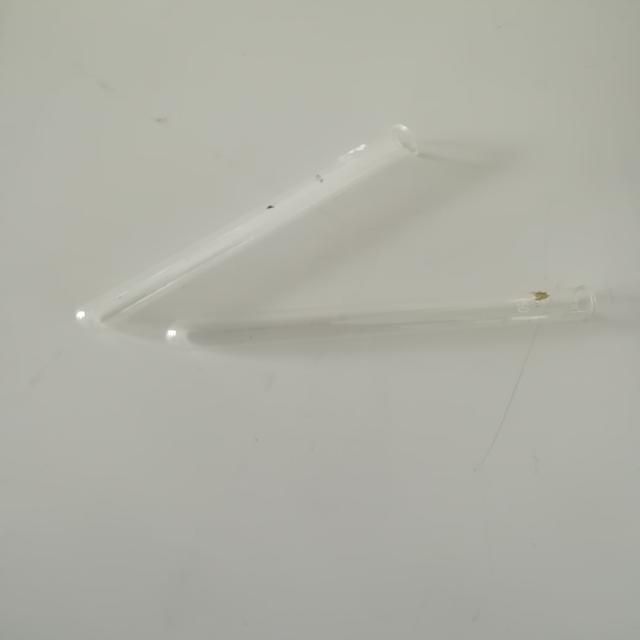Test_Tube: (46, 95, 409, 354), (146, 268, 622, 377)
